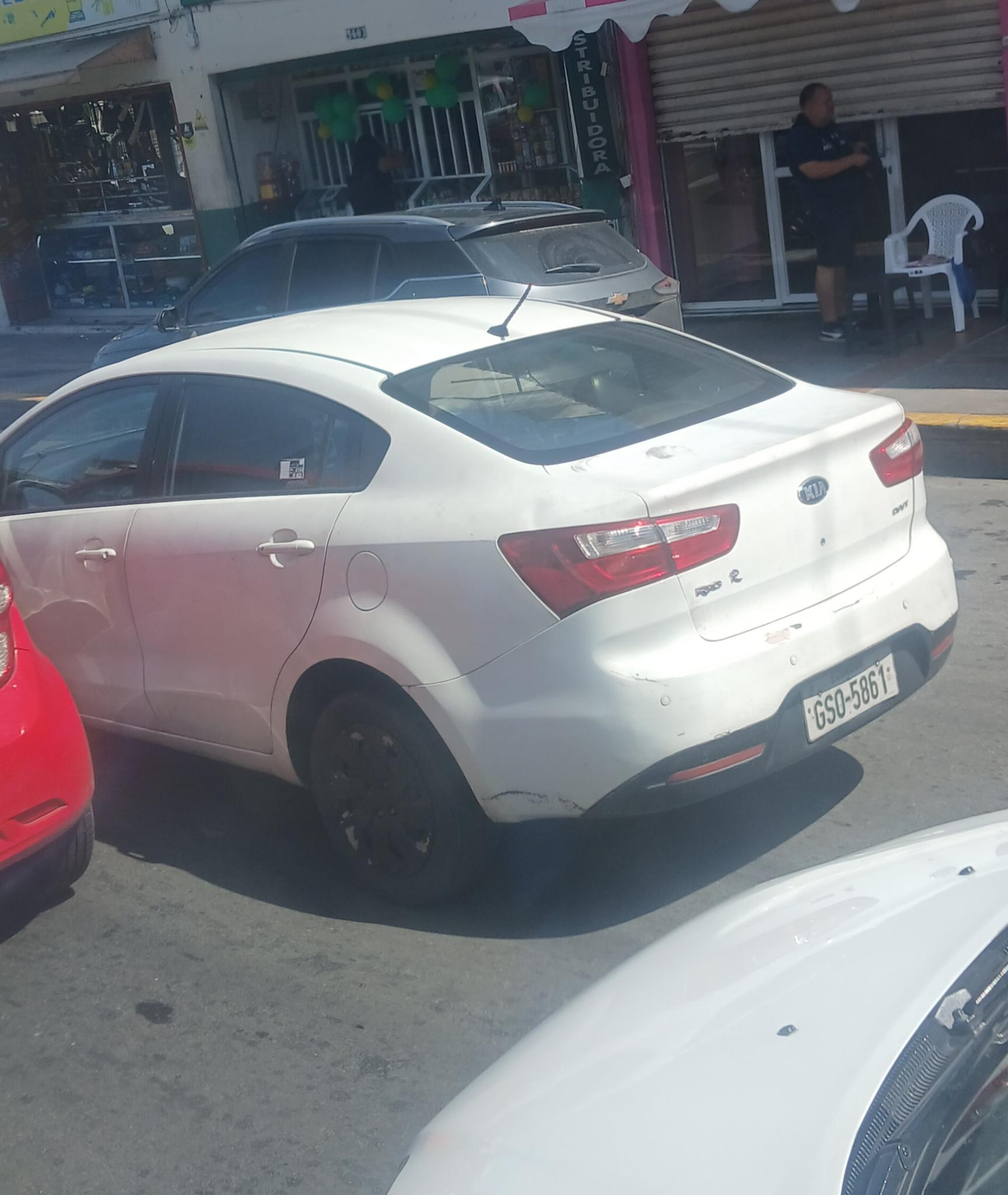license_plate: (801, 651, 898, 742)
